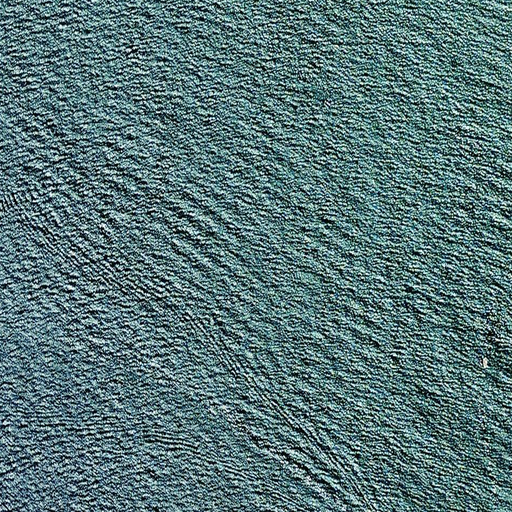ship: (481, 356, 490, 368)
